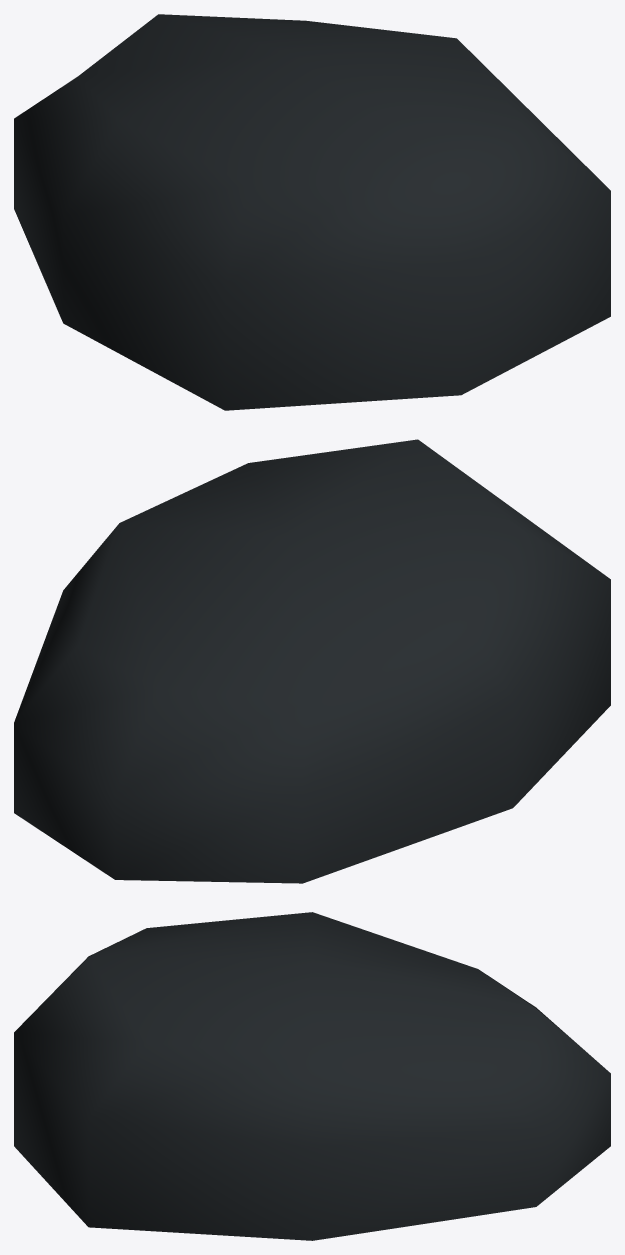
Rendered from Mouse_01.obj.
3 views of the same model, one above another, from view 1: azimuth 30°, elevation 25°; view 2: azimuth 150°, elevation 25°; view 3: azimuth 270°, elevation 25° (orthographic). The views are drawn at different scales.
Visible parts, largest first — view 1: Mouse_01; view 2: Mouse_01; view 3: Mouse_01.
Part boxes in pixels (x1=…): Mouse_01: x1=14, y1=14, x2=610, y2=410; Mouse_01: x1=14, y1=439, x2=610, y2=883; Mouse_01: x1=14, y1=912, x2=610, y2=1240.
Size of the model in its own units: 0.1187 by 0.0552 by 0.1582.
1 material, 1 textured.
